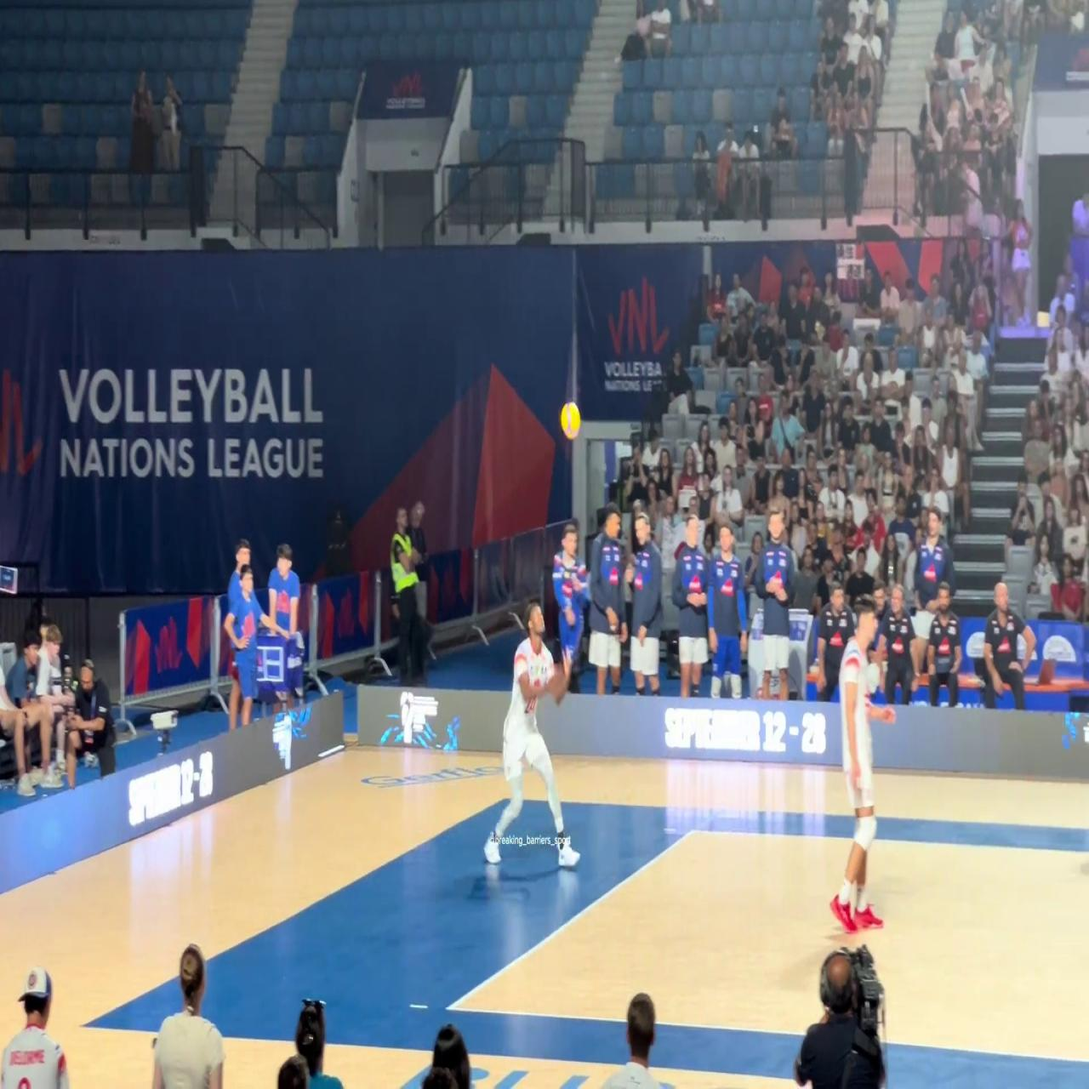ball: (560, 402, 581, 440)
